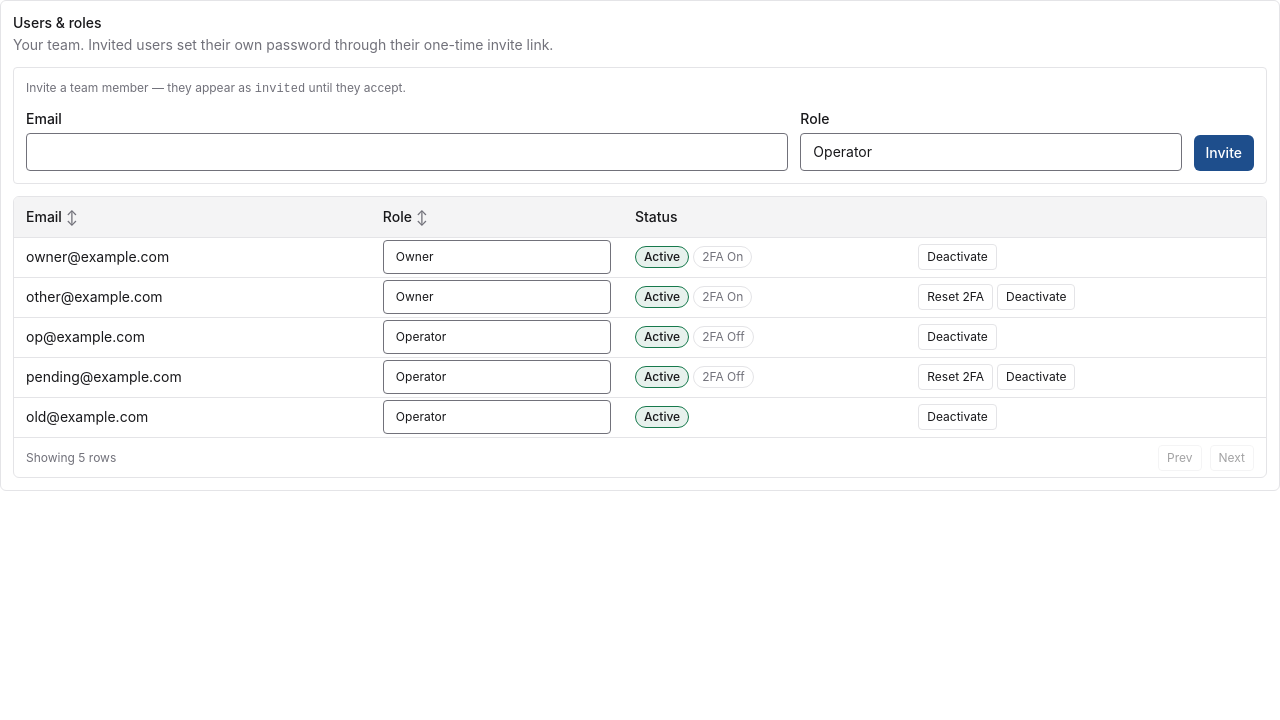
Test case: Team card — two-factor (story 6-1b) › Reset 2FA confirms, sends one keyed POST and shows the enrolment code once
The image size is (1280, 720).
Click the button "Reset 2FA" in the row of "other@example.com": (956, 297) 918,284 -> 993,310
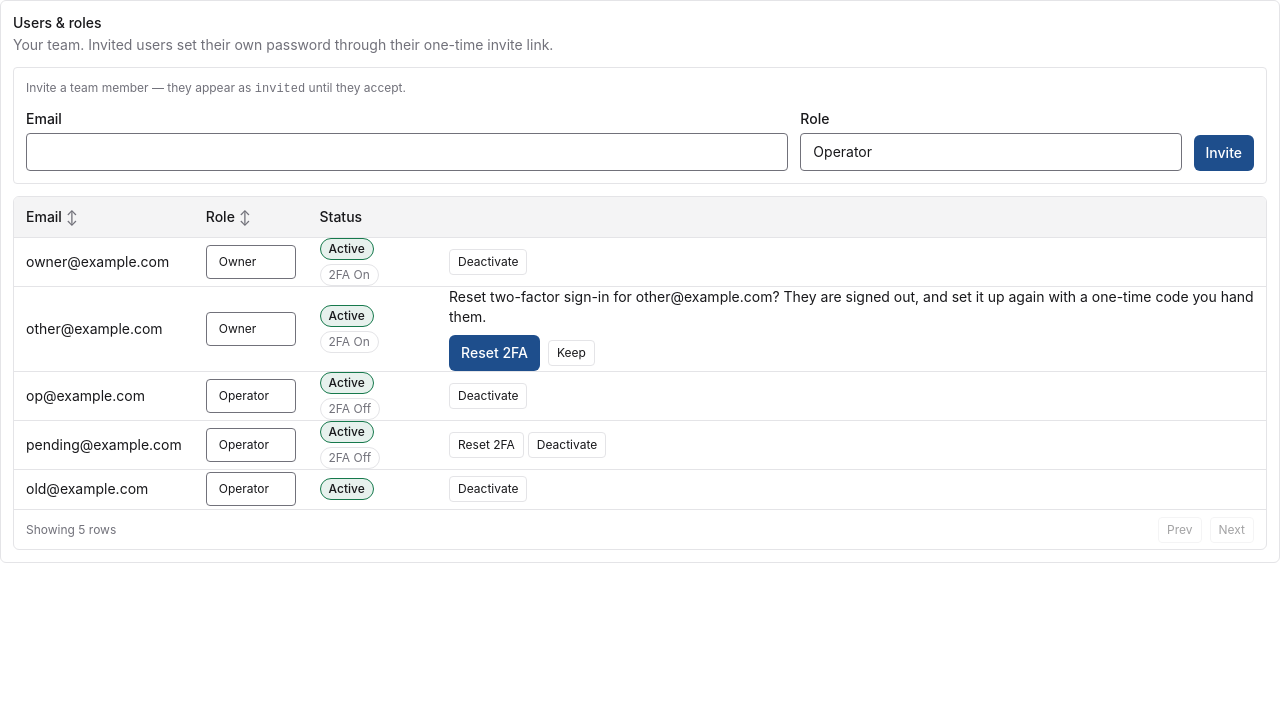
Click the 1st button "Reset 2FA": (494, 352) 449,334 -> 540,370
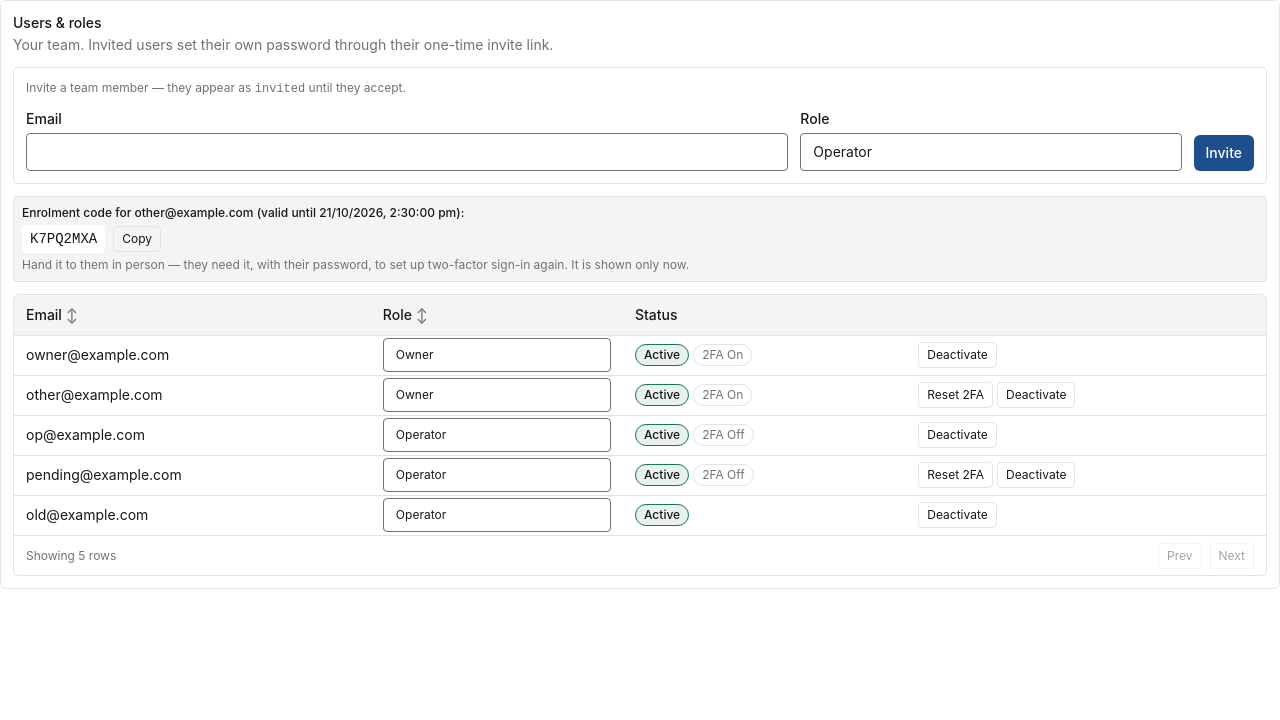
Now the text with test id "enrolment-code" reads "K7PQ2MXA", box 30,231 -> 97,247
